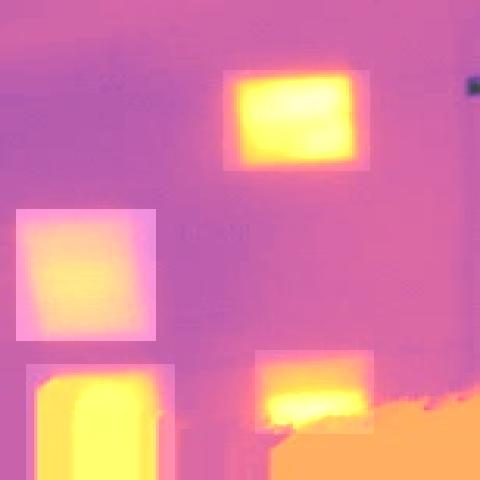fault: (16, 209, 156, 341), (26, 364, 175, 480), (223, 70, 370, 171), (255, 350, 374, 434)
